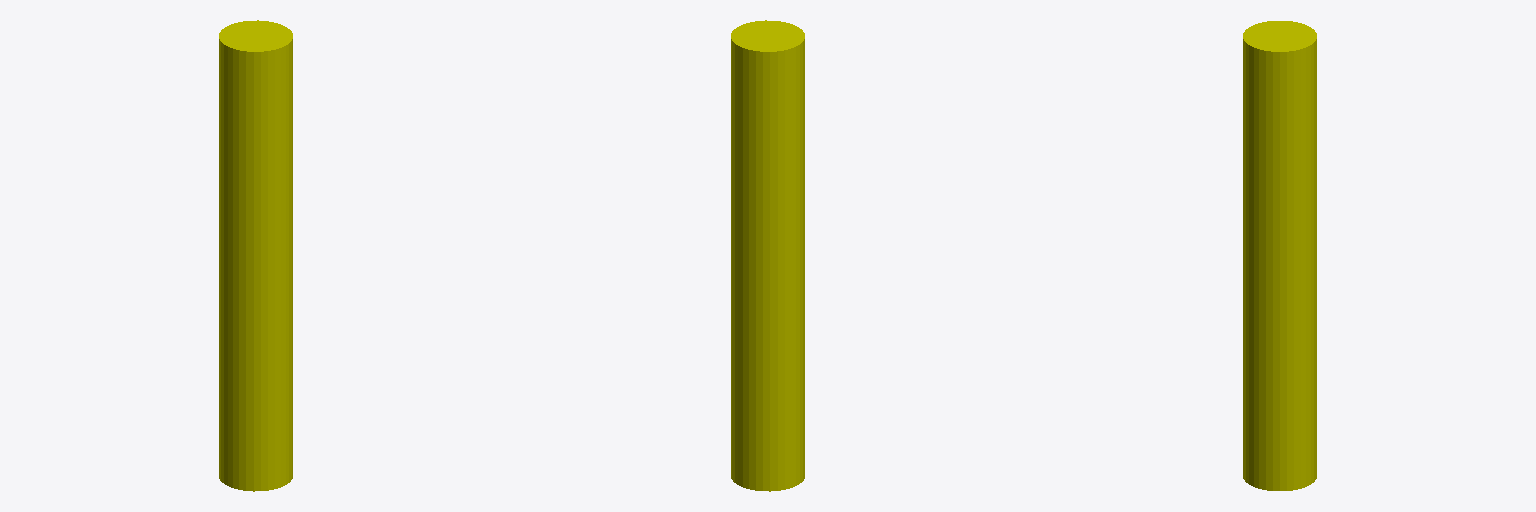
URDF robot description (simple_cylinder):
<?xml version="1.0"?>
<robot name="simple_cylinder">
  <link name="cylinder_base">
    <inertial>
      <origin xyz="0 0 0" rpy="0 0 0" />
      <mass value="0.088" />
      <inertia ixx="0.0001471708" ixy="0" ixz="0" iyy="0.0001471708" iyz="0"
               izz="0.000046475" />
    </inertial>
    <visual>
      <origin xyz="0 0 0" rpy="0 0 0" />
      <geometry>
        <cylinder length="0.130" radius="0.01" />
      </geometry>
      <material name="bright green">
        <color rgba="0.8 0.8 0.0 1" />
      </material>
    </visual>
    <collision>
      <geometry>
        <cylinder length="0.130" radius="0.01" />
      </geometry>
    </collision>
   </link>
</robot>

--- Render facts (derived) ---
Views: 3 orthographic renders of the robot side by side, from view 1: azimuth 30°, elevation 25°; view 2: azimuth 150°, elevation 25°; view 3: azimuth 270°, elevation 25°.
Robot: simple_cylinder — 1 links, 0 joints (none); root link cylinder_base; default pose: every joint at zero.
Links seen in each view (by area): view 1: cylinder_base; view 2: cylinder_base; view 3: cylinder_base.
Link boxes in pixels (<box>): cylinder_base: <box>219,20,292,491</box>; cylinder_base: <box>731,20,804,491</box>; cylinder_base: <box>1243,21,1316,490</box>.
Bounding box of the posed robot: 0.02 × 0.02 × 0.13 m (x, y, z).
Geometry: primitives only (box / cylinder / sphere), no mesh files.